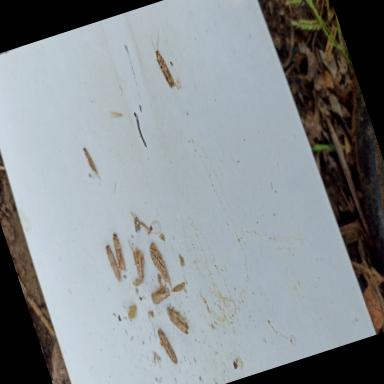pbw: (147, 29, 178, 95), (107, 230, 130, 274), (156, 326, 178, 366), (166, 304, 191, 338), (104, 243, 122, 284), (82, 146, 102, 182), (130, 247, 148, 277), (148, 282, 171, 304), (168, 280, 186, 294), (131, 276, 144, 287)
